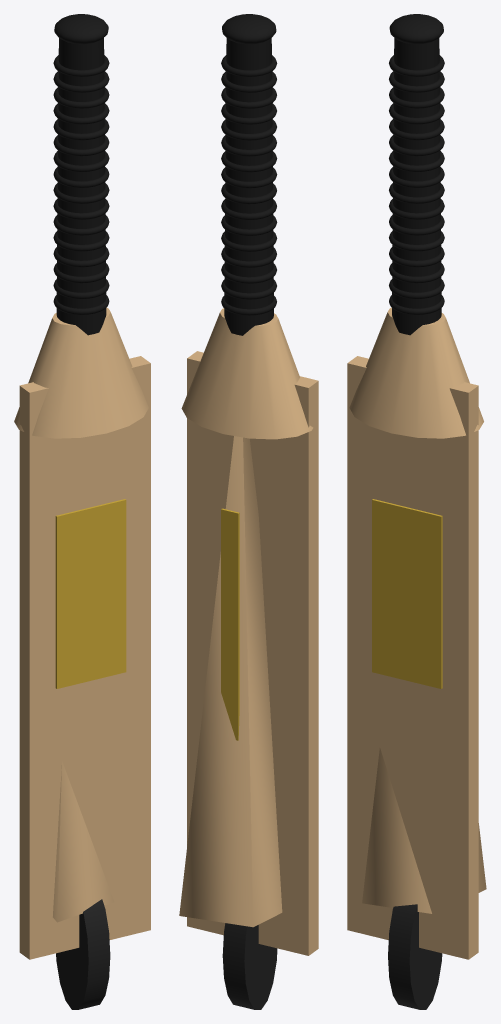
The model's file is cricket_bat.glb.
The picture shows the model from 3 angles, left to right: view 1: azimuth 30°, elevation 25°; view 2: azimuth 150°, elevation 25°; view 3: azimuth 330°, elevation 25°; orthographic projection.
Parts seen in each view (by area): view 1: CricketBat; view 2: CricketBat; view 3: CricketBat.
Part boxes in pixels (bbox=[...]): CricketBat: bbox=[14, 14, 150, 1009]; CricketBat: bbox=[179, 14, 318, 1009]; CricketBat: bbox=[347, 14, 486, 1009].
Bounding box in the file's own units: 0.2592 × 1.96 × 0.2008.
